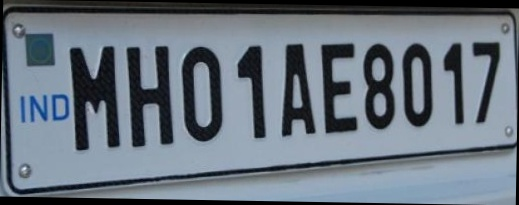character: (66, 43, 122, 152), (124, 44, 176, 150), (178, 42, 225, 143), (316, 38, 359, 134), (279, 41, 319, 137), (233, 43, 268, 140), (361, 39, 396, 131), (399, 40, 435, 127), (469, 38, 502, 126), (441, 39, 466, 126)
